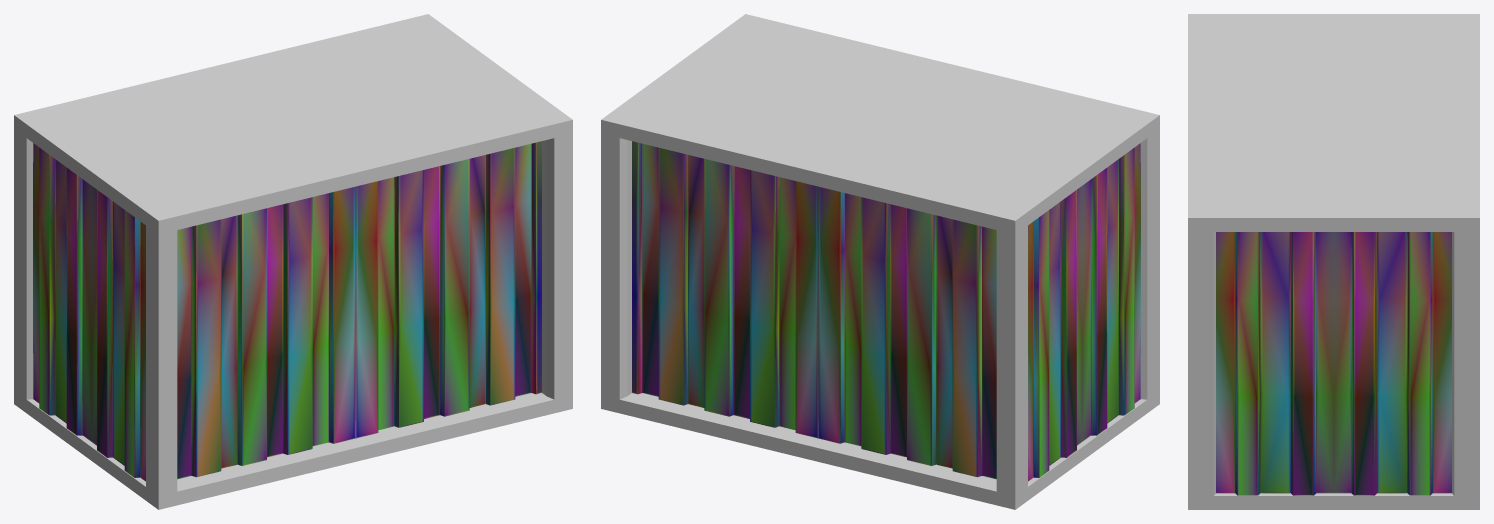
Rendered from Basic_Container.fbx.
3 views of the same model, side by side, from view 1: azimuth 30°, elevation 25°; view 2: azimuth 150°, elevation 25°; view 3: azimuth 270°, elevation 25° (orthographic).
Visible parts, largest first — view 1: Container_Back_MAT01_0_003, Basic_Container; view 2: Container_Back_MAT01_0_003, Basic_Container; view 3: Basic_Container, Container_Back_MAT01_0_003.
Boxes of the visible parts, x1=… form: Container_Back_MAT01_0_003: x1=33, y1=141, x2=541, y2=481; Basic_Container: x1=14, y1=14, x2=572, y2=509; Container_Back_MAT01_0_003: x1=632, y1=141, x2=1140, y2=481; Basic_Container: x1=601, y1=14, x2=1159, y2=509; Basic_Container: x1=1188, y1=14, x2=1479, y2=509; Container_Back_MAT01_0_003: x1=1216, y1=232, x2=1451, y2=495.
Bounding box in the file's own units: 1200 × 800 × 725.
